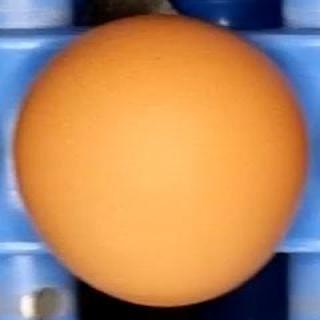Telur: (8, 13, 312, 309)
